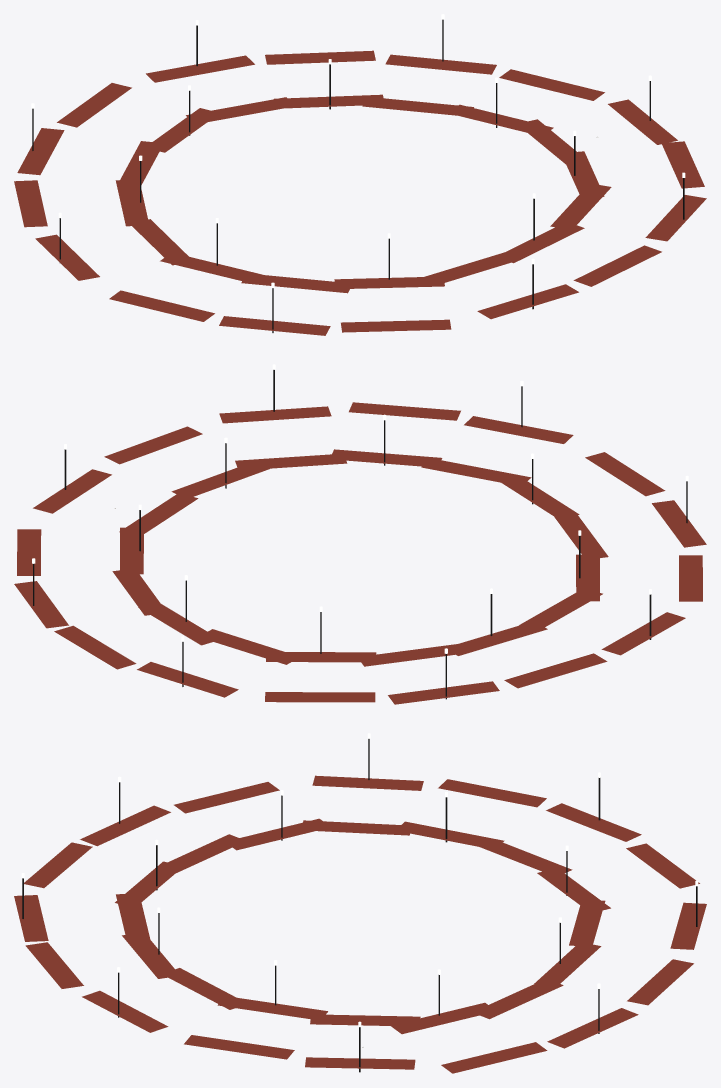
Rendered from noord_brick_rb.glb.
3 views of the same model, one above another, from view 1: azimuth 30°, elevation 25°; view 2: azimuth 150°, elevation 25°; view 3: azimuth 270°, elevation 25° (orthographic).
Visible parts, largest first — view 1: noord_brick_rb_lod0; view 2: noord_brick_rb_lod0; view 3: noord_brick_rb_lod0.
Part boxes in pixels (left/top/right/bottom): noord_brick_rb_lod0: left=14, top=14, right=706, bottom=335; noord_brick_rb_lod0: left=14, top=364, right=706, bottom=704; noord_brick_rb_lod0: left=14, top=733, right=706, bottom=1073.
Size of what is drawn, in the model's own units: 75.93 by 8.04 by 75.91.
